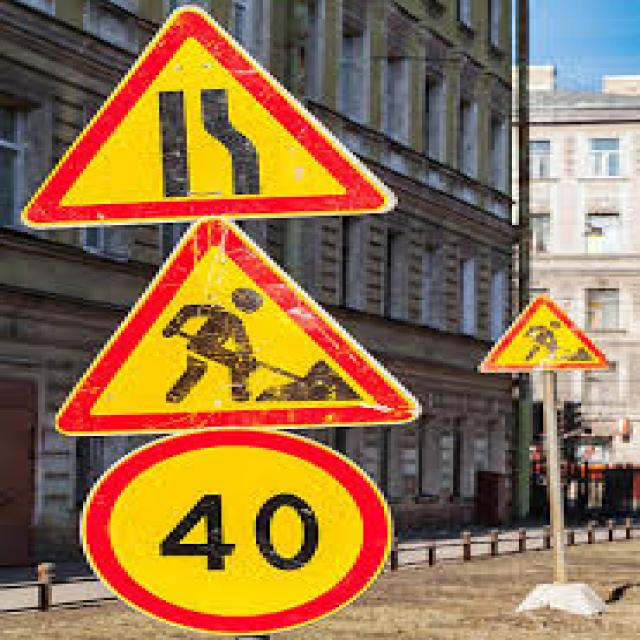roadwork: (30, 219, 438, 432), (469, 297, 618, 376)
speed limit 40: (73, 422, 395, 640)
